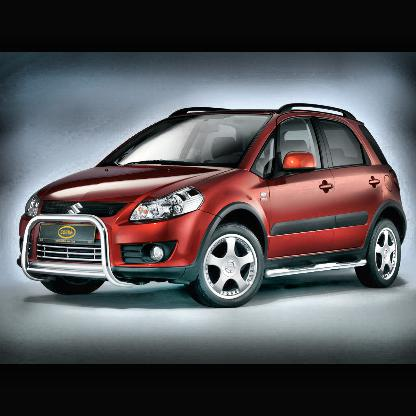Suzuki SX4 Hatchback 2012: (16, 104, 408, 309)
